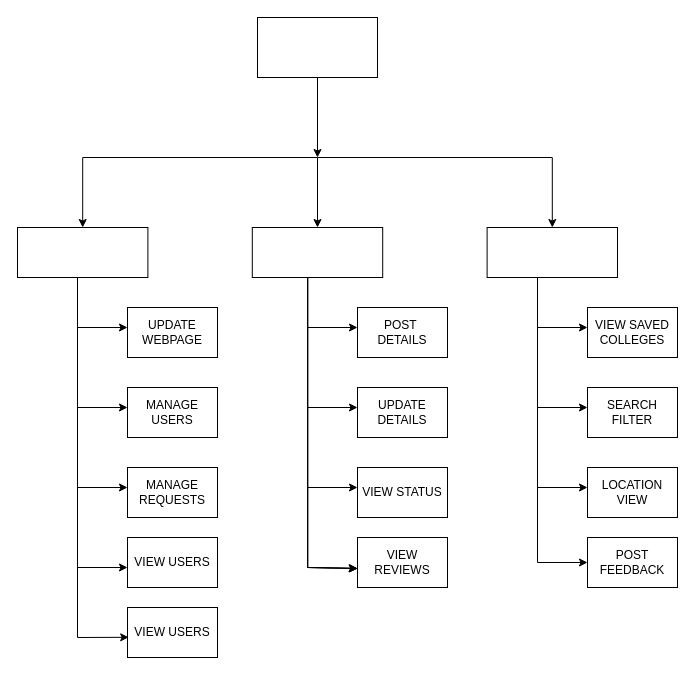
The diagram is 695 pixels wide and 675 high, and some of its shapes have lost their labels. Each missing label, with the centre of its shape:
"Admin" belongs at (x=82, y=252).
"College" belongs at (x=317, y=252).
"MyCl" belongs at (x=317, y=47).
"User" belongs at (x=552, y=252).
